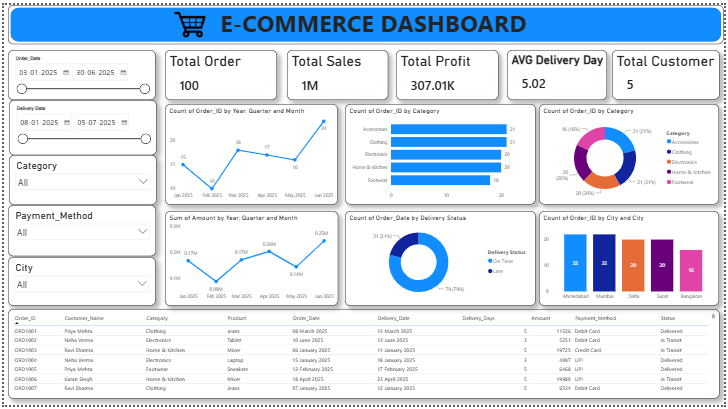

What the dashboard file says about the page in this screenshot:
{"tool":"powerbi","page":{"name":"Page 1","canvas":[1800,1000],"ordinal":0},"visuals":[{"type":"shape","box":[10.7,0,1789.3,98.1],"z":0},{"type":"textbox","box":[0,0,1789.1,112.7],"z":1000},{"type":"slicer","fields":{"Values":["Dashboard_Data.Order_Date"]},"box":[10.9,112.7,369.1,125.5],"z":2000},{"type":"slicer","fields":{"Values":["Dashboard_Data.Delivery_Date"]},"box":[12.7,236.4,369.1,138.2],"z":3000},{"type":"slicer","fields":{"Values":["Dashboard_Data.Category"]},"box":[12.7,374.5,369.1,125.5],"z":4000},{"type":"slicer","fields":{"Values":["Dashboard_Data.Payment_Method"]},"box":[10.7,500.6,370.1,127.8],"z":5000},{"type":"slicer","fields":{"Values":["Dashboard_Data.City"]},"box":[10.9,629.1,369.1,121.8],"z":6000},{"type":"tableEx","fields":{"Values":["Dashboard_Data.Order_ID","Dashboard_Data.Customer_Name","Dashboard_Data.Category","Dashboard_Data.Product","Dashboard_Data.Order_Date","Dashboard_Data.Delivery_Date","Dashboard_Data.Delivery_Days","Dashboard_Data.Amount","Dashboard_Data.Payment_Method","Dashboard_Data.Status"]},"box":[10.7,758.9,1778.7,223.7],"z":7000},{"type":"cardVisual","title":"Total Order","fields":{"Data":["CountNonNull(Dashboard_Data.Order_ID)"]},"box":[402.1,111.8,279.6,125.1],"z":8000},{"type":"cardVisual","title":"Total Sales","fields":{"Data":["Sum(Dashboard_Data.Amount)"]},"box":[708.3,111.8,253,125.1],"z":9000},{"type":"cardVisual","title":"Total Profit","fields":{"Data":["Dashboard_Data.Profit"]},"box":[979.9,111.8,255.6,125.1],"z":10000},{"type":"cardVisual","title":"AVG Delivery Day","fields":{"Data":["Avg(Dashboard_Data.Delivery_Days)"]},"box":[1256.8,111.8,250.3,125.1],"z":11000},{"type":"cardVisual","title":"Total Customer","fields":{"Data":["Dashboard_Data.Total Customers"]},"box":[1520,112.7,269.1,123.6],"z":12000},{"type":"lineChart","fields":{"Y":["CountNonNull(Dashboard_Data.Order_ID)"],"Category":["Dashboard_Data.Order_Date.Variation.Date Hierarchy.Year","Dashboard_Data.Order_Date.Variation.Date Hierarchy.Quarter","Dashboard_Data.Order_Date.Variation.Date Hierarchy.Month"]},"box":[402,248,432,252],"z":13000},{"type":"barChart","fields":{"Y":["CountNonNull(Dashboard_Data.Order_ID)"],"Category":["Dashboard_Data.Category"]},"box":[851.4,248.6,477.1,251.4],"z":14000},{"type":"donutChart","fields":{"Category":["Dashboard_Data.Category"],"Y":["CountNonNull(Dashboard_Data.Order_ID)"]},"box":[1338.6,248.6,450,251.4],"z":15000},{"type":"lineChart","fields":{"Category":["Dashboard_Data.Order_Date.Variation.Date Hierarchy.Year","Dashboard_Data.Order_Date.Variation.Date Hierarchy.Quarter","Dashboard_Data.Order_Date.Variation.Date Hierarchy.Month"],"Y":["Sum(Dashboard_Data.Amount)"]},"box":[401.4,514.3,432.9,237.1],"z":16000},{"type":"donutChart","fields":{"Category":["Dashboard_Data.Delivery Status"],"Y":["CountNonNull(Dashboard_Data.Order_Date)"]},"box":[851.4,514.3,477.1,237.1],"z":17000},{"type":"columnChart","fields":{"Y":["CountNonNull(Dashboard_Data.Order_ID)"],"Category":["Dashboard_Data.City"],"Series":["Dashboard_Data.City"]},"box":[1338.6,514.3,450,237.1],"z":18000},{"type":"image","box":[318.2,0,300,98.2],"z":19000}]}

Visuals, with their boxes in screenshot pixels (x1, y1, x2, y2), scaled from the page's 1800x1000 canvas onto the 728x409 screenshot:
shape: rect(4, 0, 727, 40)
textbox: rect(0, 0, 724, 46)
slicer - Dashboard_Data.Order_Date: rect(4, 46, 154, 97)
slicer - Dashboard_Data.Delivery_Date: rect(5, 97, 154, 153)
slicer - Dashboard_Data.Category: rect(5, 153, 154, 204)
slicer - Dashboard_Data.Payment_Method: rect(4, 205, 154, 257)
slicer - Dashboard_Data.City: rect(4, 257, 154, 307)
tableEx - Dashboard_Data.Order_ID x Dashboard_Data.Customer_Name: rect(4, 310, 724, 402)
"Total Order" cardVisual: rect(163, 46, 276, 97)
"Total Sales" cardVisual: rect(286, 46, 389, 97)
"Total Profit" cardVisual: rect(396, 46, 500, 97)
"AVG Delivery Day" cardVisual: rect(508, 46, 610, 97)
"Total Customer" cardVisual: rect(615, 46, 724, 97)
lineChart - CountNonNull(Dashboard_Data.Order_ID) x Dashboard_Data.Order_Date.Variation.Date Hierarchy.Year: rect(163, 101, 337, 204)
barChart - CountNonNull(Dashboard_Data.Order_ID) x Dashboard_Data.Category: rect(344, 102, 537, 204)
donutChart - Dashboard_Data.Category x CountNonNull(Dashboard_Data.Order_ID): rect(541, 102, 723, 204)
lineChart - Dashboard_Data.Order_Date.Variation.Date Hierarchy.Year x Dashboard_Data.Order_Date.Variation.Date Hierarchy.Quarter: rect(162, 210, 337, 307)
donutChart - Dashboard_Data.Delivery Status x CountNonNull(Dashboard_Data.Order_Date): rect(344, 210, 537, 307)
columnChart - CountNonNull(Dashboard_Data.Order_ID) x Dashboard_Data.City: rect(541, 210, 723, 307)
image: rect(129, 0, 250, 40)
